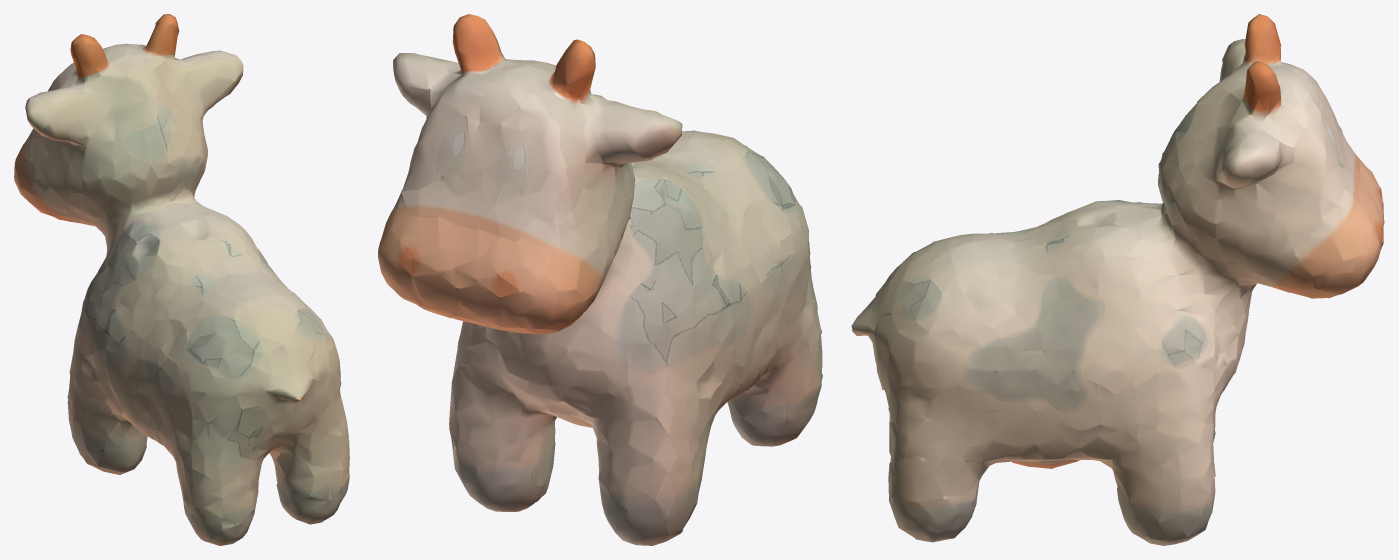
3 views of the same model, side by side, from view 1: azimuth 30°, elevation 25°; view 2: azimuth 150°, elevation 25°; view 3: azimuth 270°, elevation 25° (orthographic). The views are drawn at different scales.
Visible parts, largest first — view 1: pMesh1; view 2: pMesh1; view 3: pMesh1.
Part boxes in pixels (box(x1,y1,x2,y2)): pMesh1: box(14, 14, 349, 545); pMesh1: box(378, 14, 822, 545); pMesh1: box(851, 14, 1384, 545).
Size of the model in its own units: 0.9441 by 1.69 by 1.72.
Materials: 1 (1 with a texture image).
